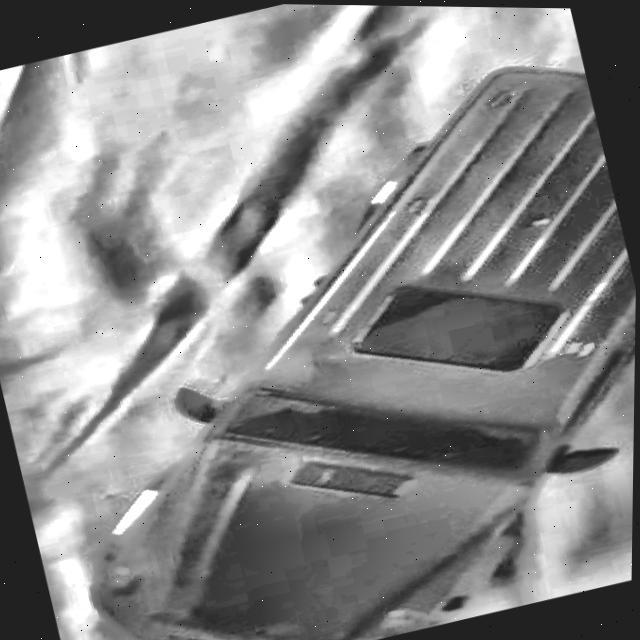light_vehicle: (0, 34, 640, 640)
